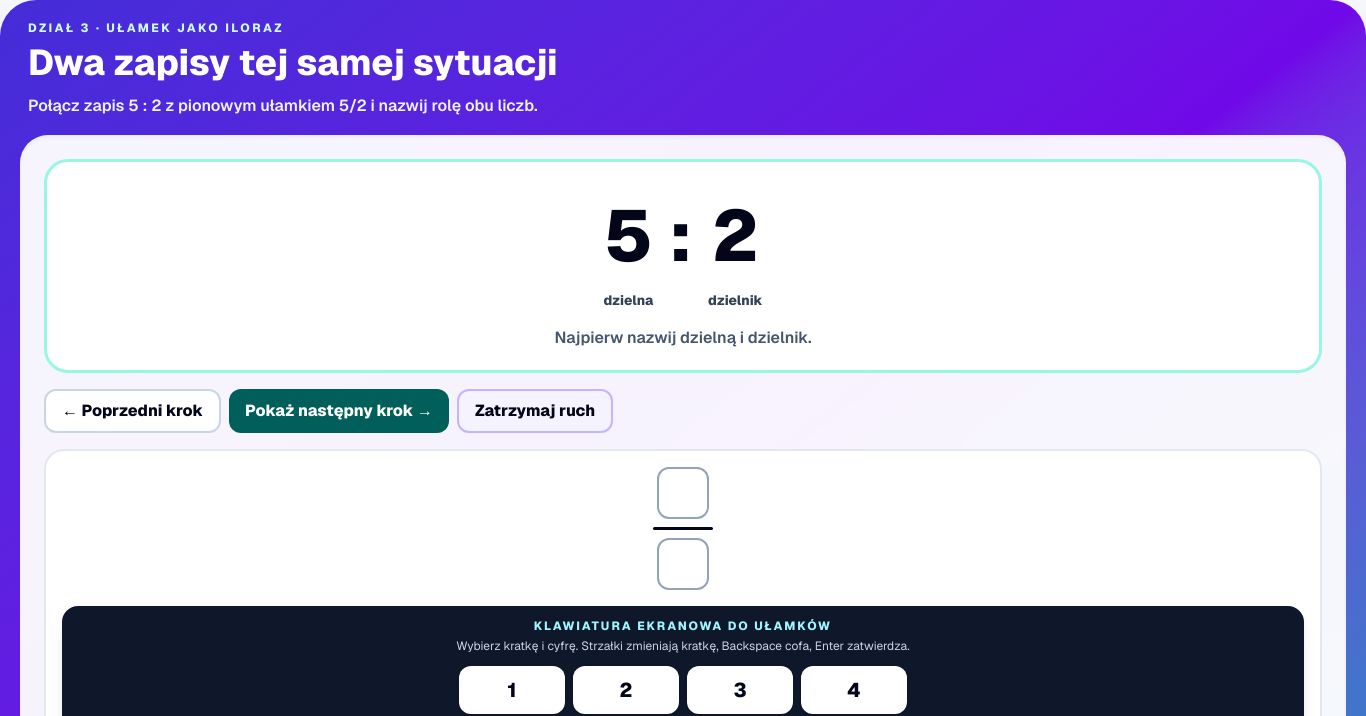
Test case: FractionQuotientLessonModel — podział, zapis, realtime i dostępność › animuje przejście 5:2 do 5/2, nazywa role i diagnozuje odwróconą kolejność
Click the button "Pokaż następny krok →" at (339,411), box x1=229 y1=389 x2=449 y2=433
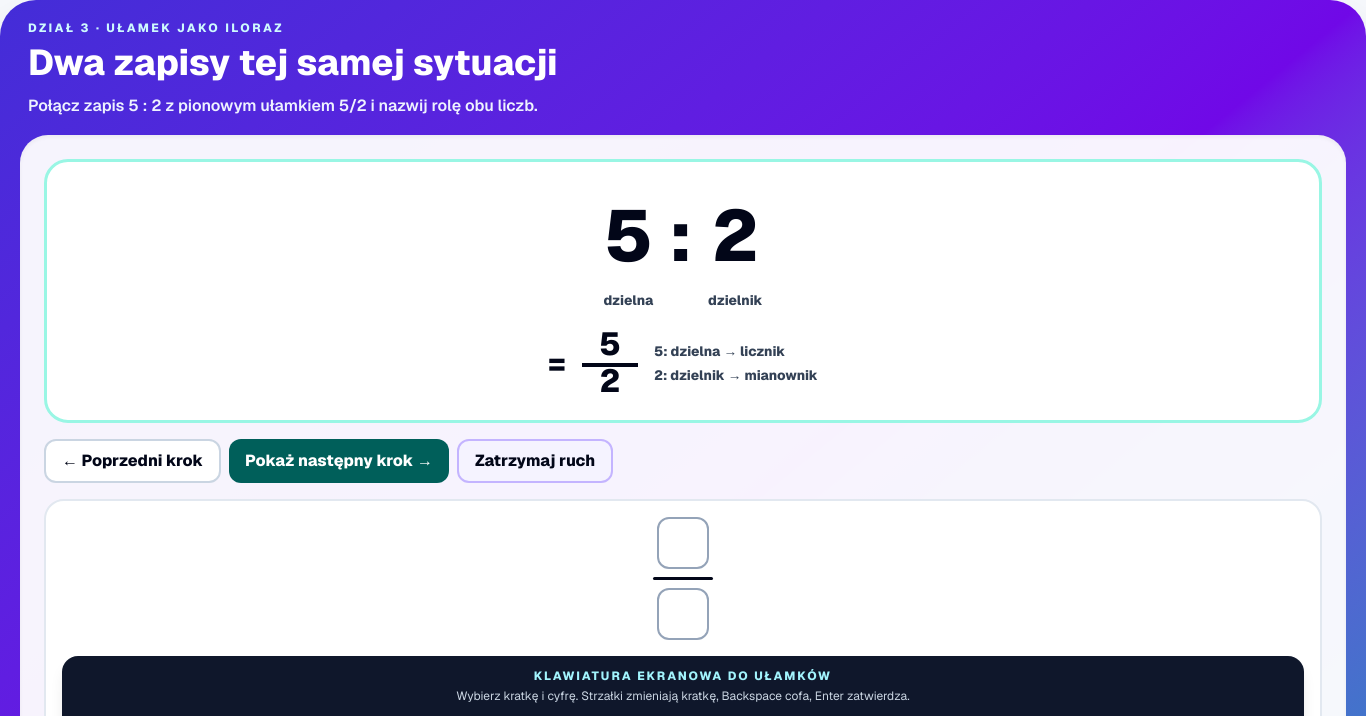
Expected: the text "5: dzielna → licznik" is shown, x1=654 y1=342 x2=785 y2=360
Expected: the text "2: dzielnik → mianownik" is shown, x1=654 y1=365 x2=818 y2=386
Type "2" into the field named "licznik, cyfra 1 z 1" at (683,543), box x1=657 y1=517 x2=709 y2=569
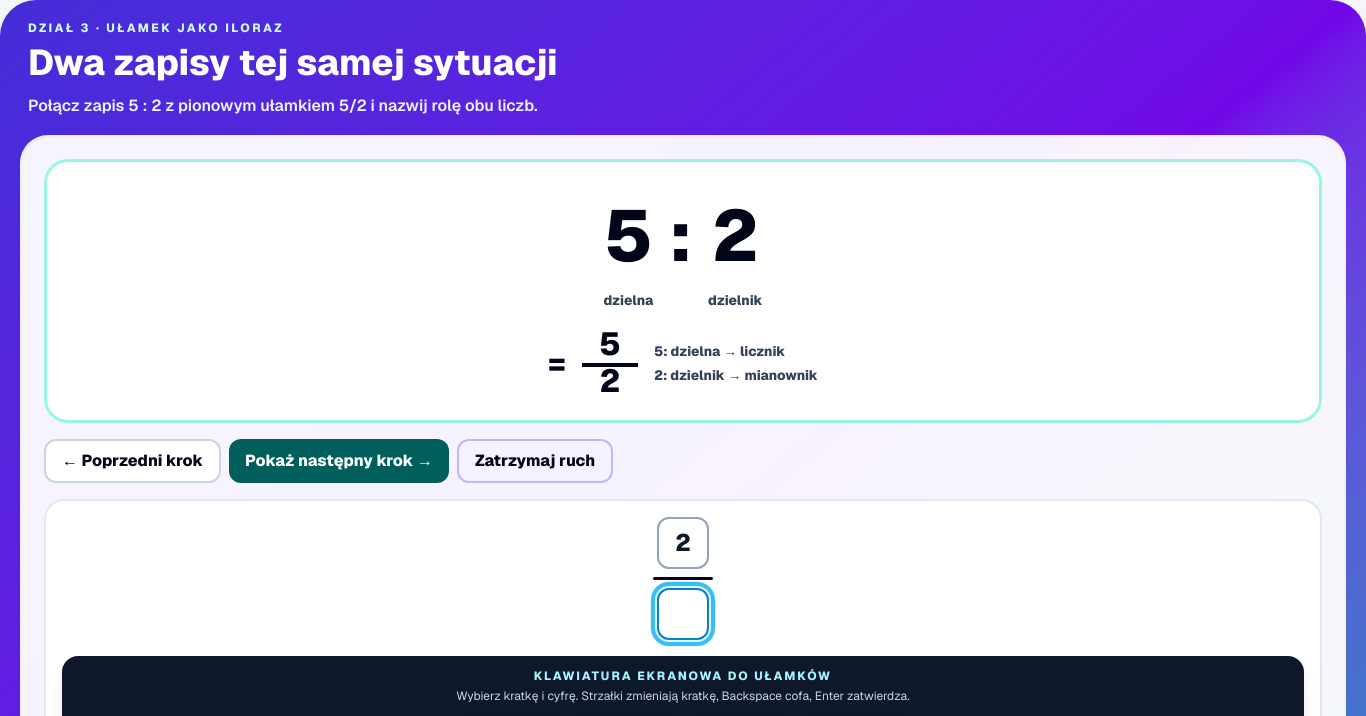
Type "5" into the field named "mianownik, cyfra 1 z 1" at (683,614), box x1=657 y1=588 x2=709 y2=640
(page scrolled)
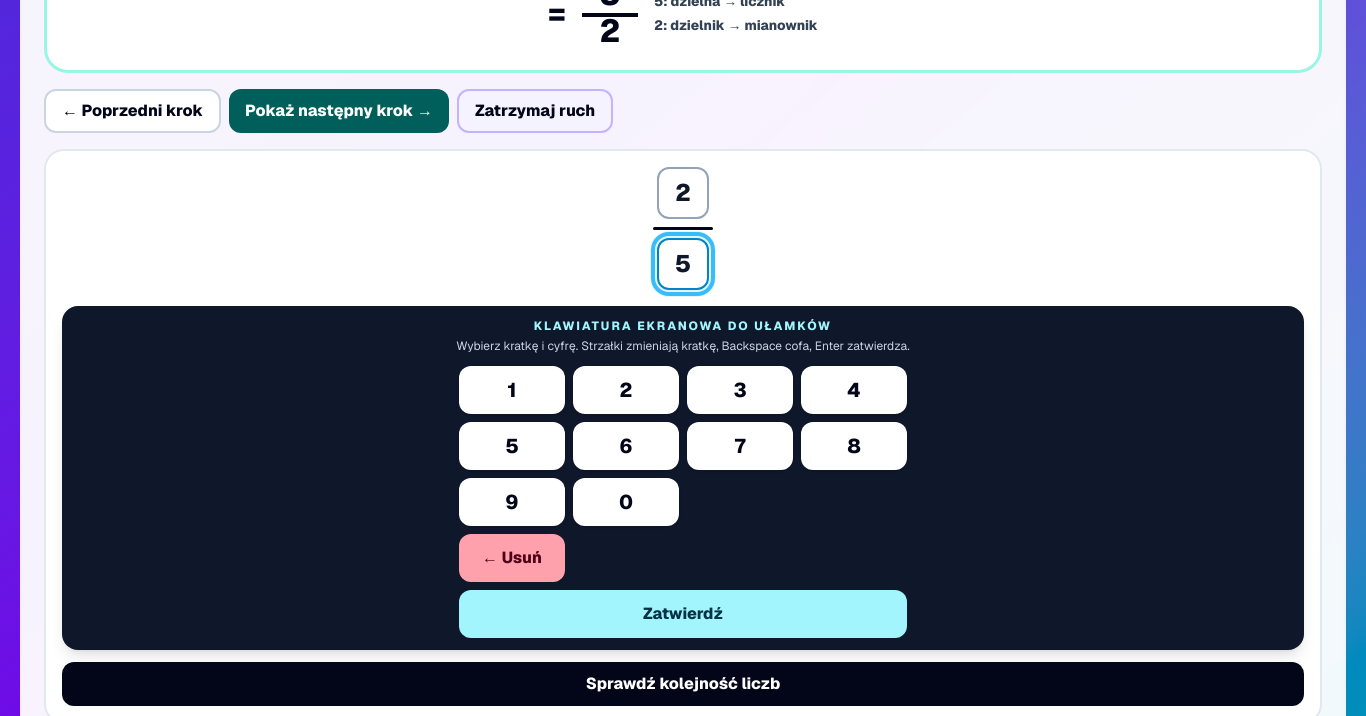
Click the button "Sprawdź kolejność liczb" at (683,684), box x1=62 y1=662 x2=1304 y2=706
(page scrolled)
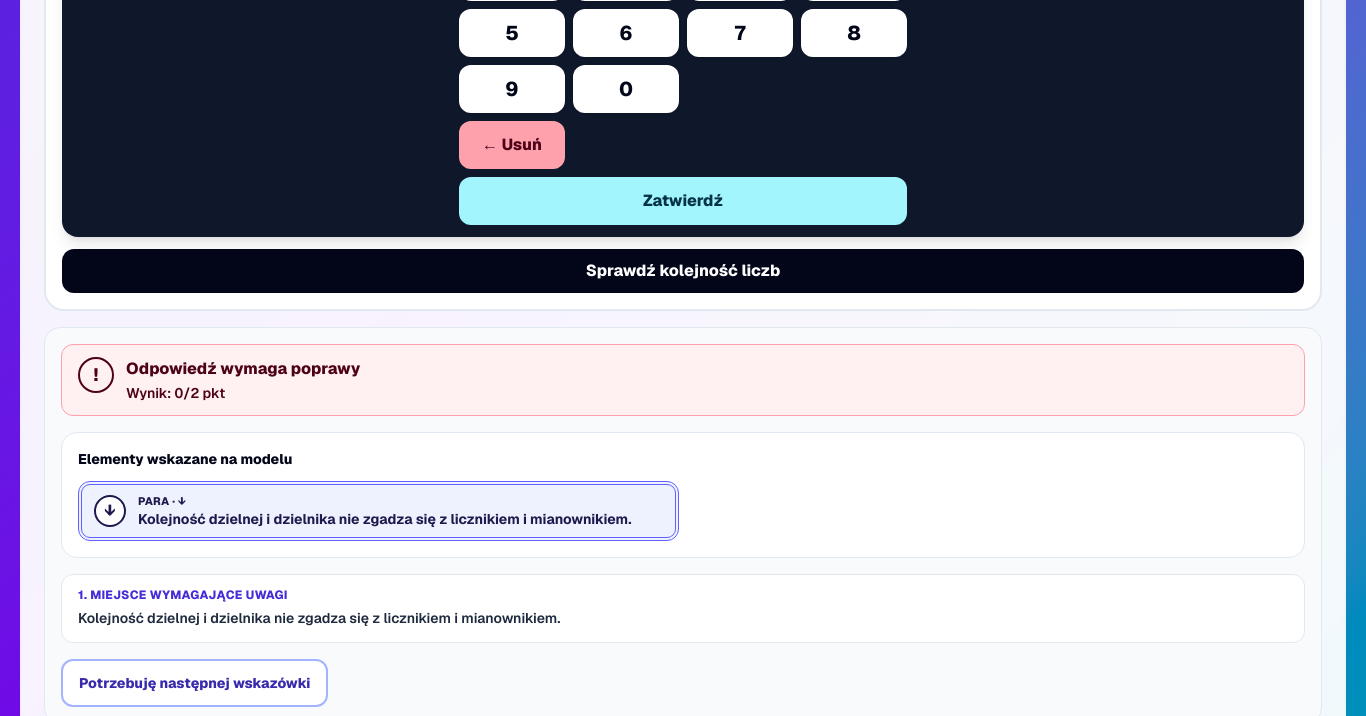
Expected: the text "Kolejność dzielnej i dzielnika" below "para" is shown, x1=138 y1=510 x2=632 y2=528
